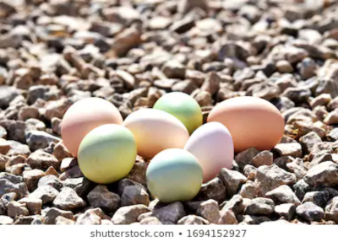egg: (202, 91, 290, 150), (54, 94, 128, 164), (118, 105, 192, 162), (180, 120, 237, 191), (76, 121, 140, 183), (142, 144, 206, 206), (146, 88, 207, 146)
stone: (253, 159, 300, 198), (262, 178, 303, 209), (83, 183, 124, 213), (22, 125, 62, 153), (300, 157, 338, 186), (51, 184, 88, 209), (17, 165, 49, 192), (3, 195, 31, 217), (296, 129, 325, 149)
